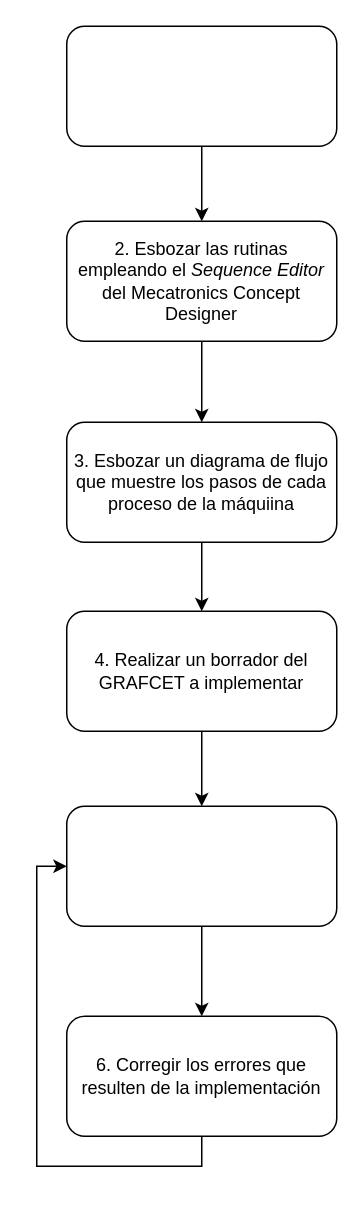
Some shapes in this 363 by 1205 pixel diagram are drawn without their labels. Here are the shapes that lost their labels. From the top down, the centre of each, then its label:
the point at 201,85: 1. Observar el comportamiento de las máquinas a programar
the point at 201,865: 5. Implementar el GRAFCET dentro de Studio5000 como un SFC
